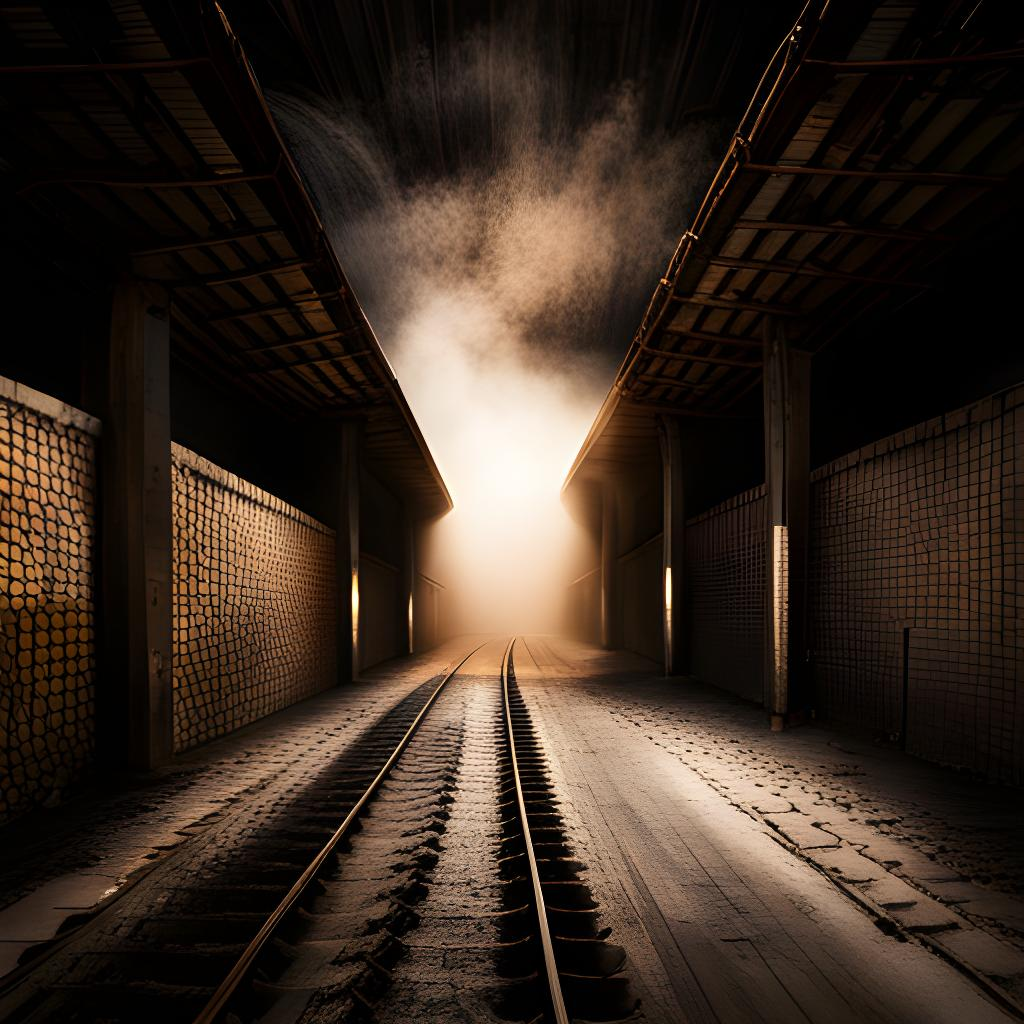smoke: (331, 111, 655, 686)
